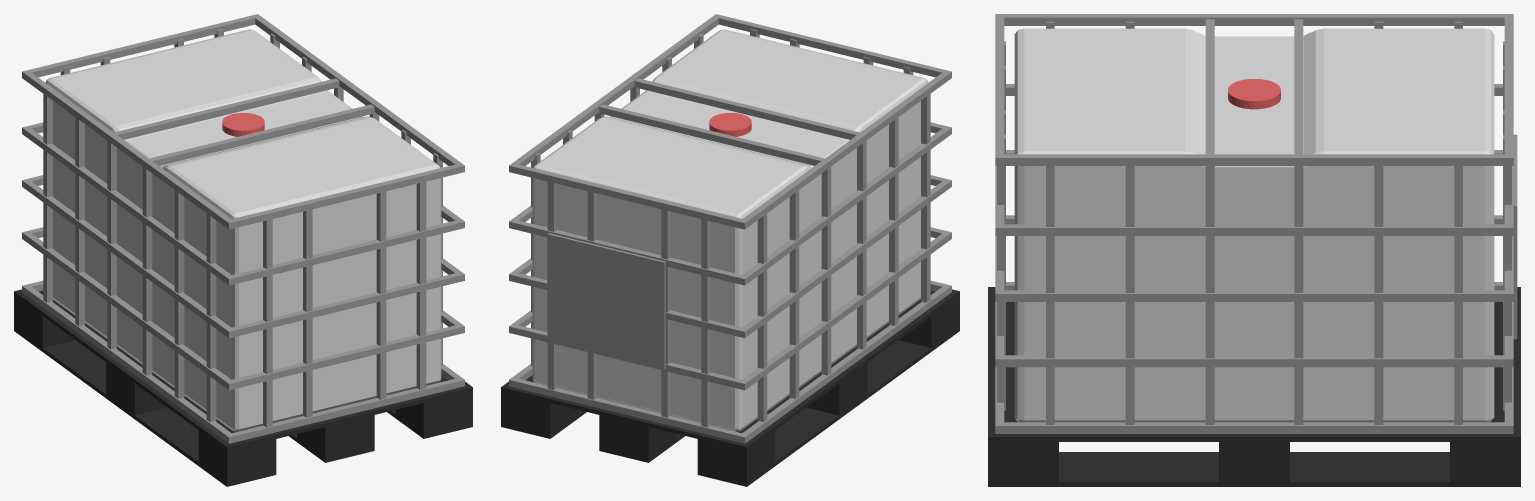
File: IBCContainer.obj
3 renders of one model, left to right at view 1: azimuth 30°, elevation 25°; view 2: azimuth 150°, elevation 25°; view 3: azimuth 270°, elevation 25°, orthographic. The views are drawn at different scales.
Visible parts, largest first — view 1: huta; view 2: huta; view 3: huta.
Part boxes in pixels (x1,y1,x2,y2): huta: (14,14,472,486); huta: (501,14,959,486); huta: (988,14,1520,486).
Size of the model in its own units: 4 by 4.05 by 6.
1 material, 1 textured.
